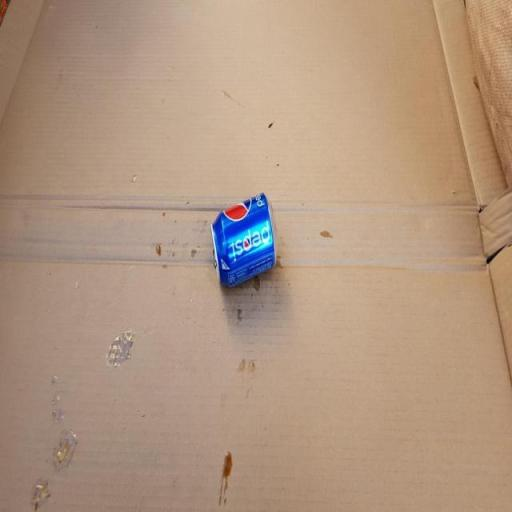metal: (190, 160, 291, 322)
